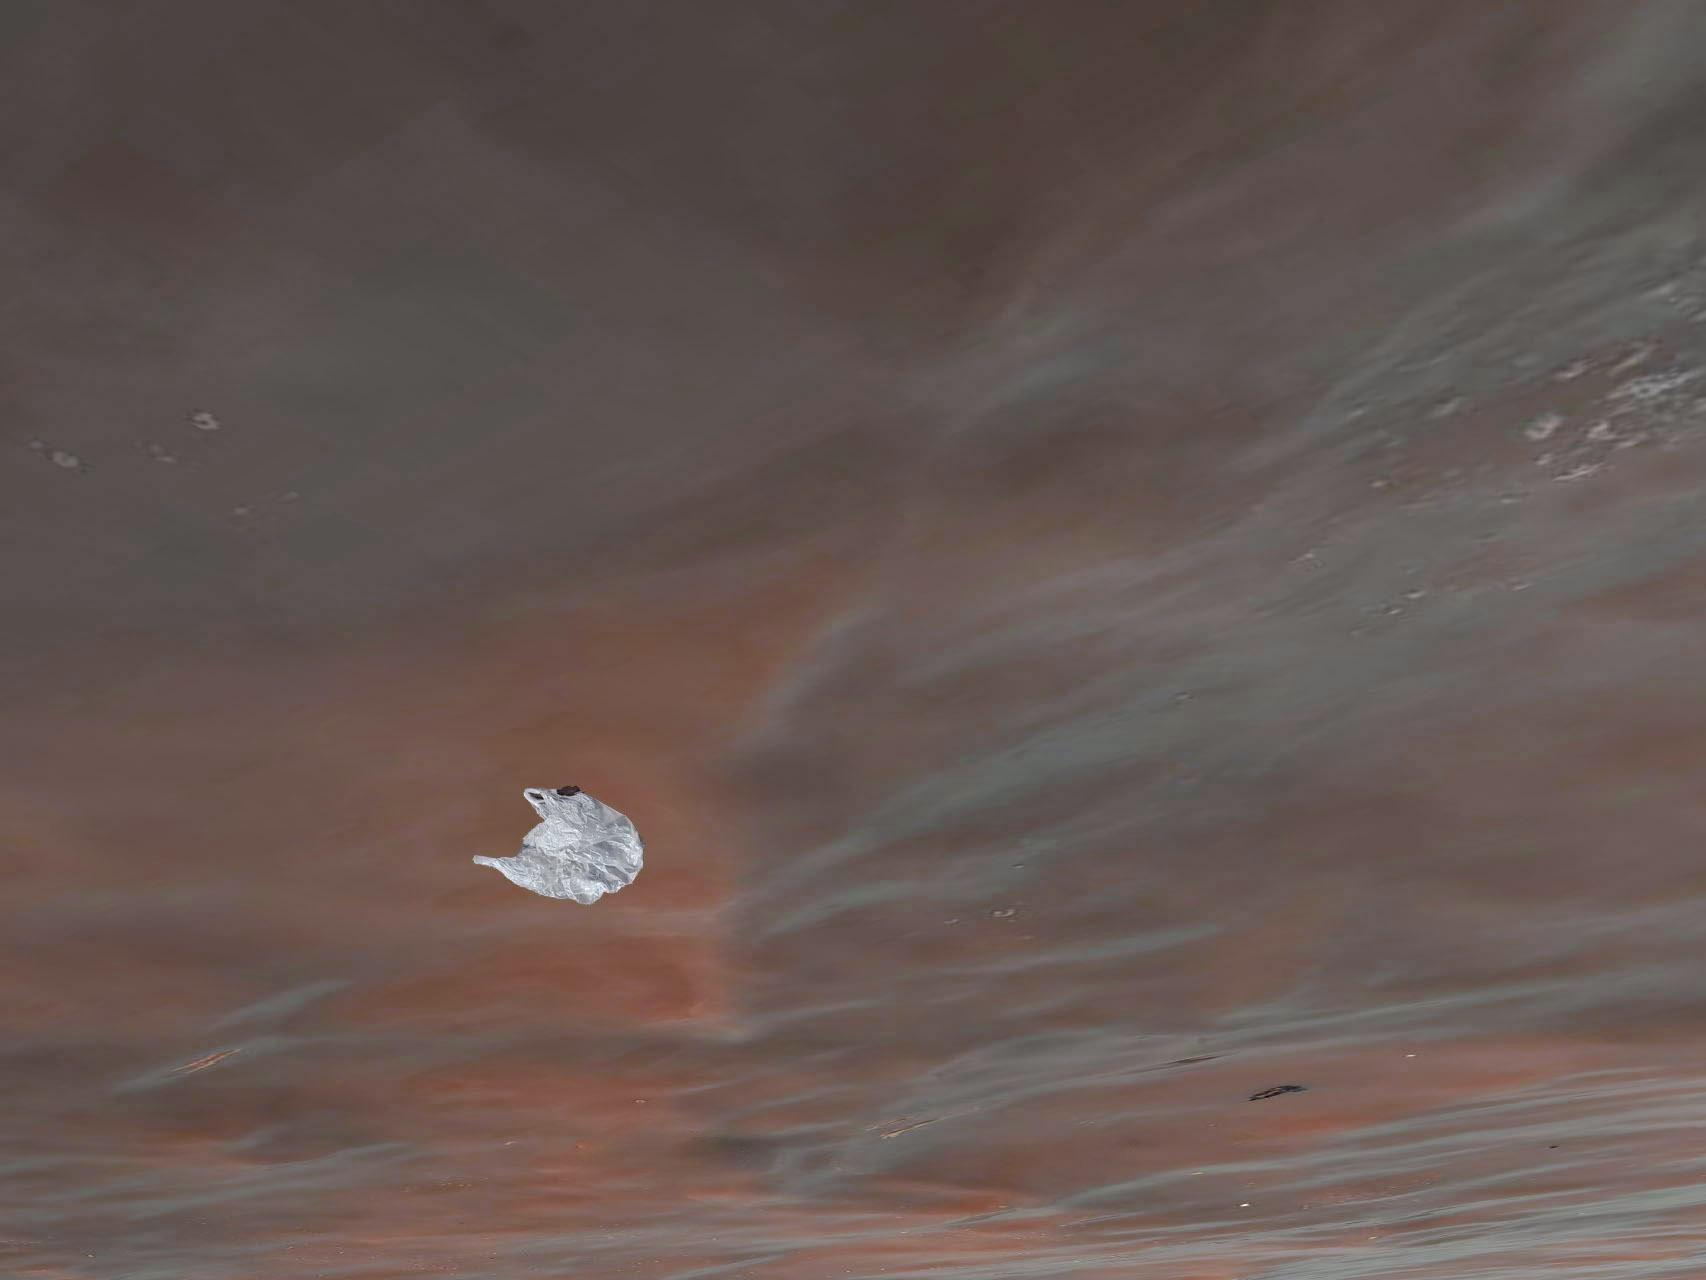Trash: (473, 785, 645, 909)
